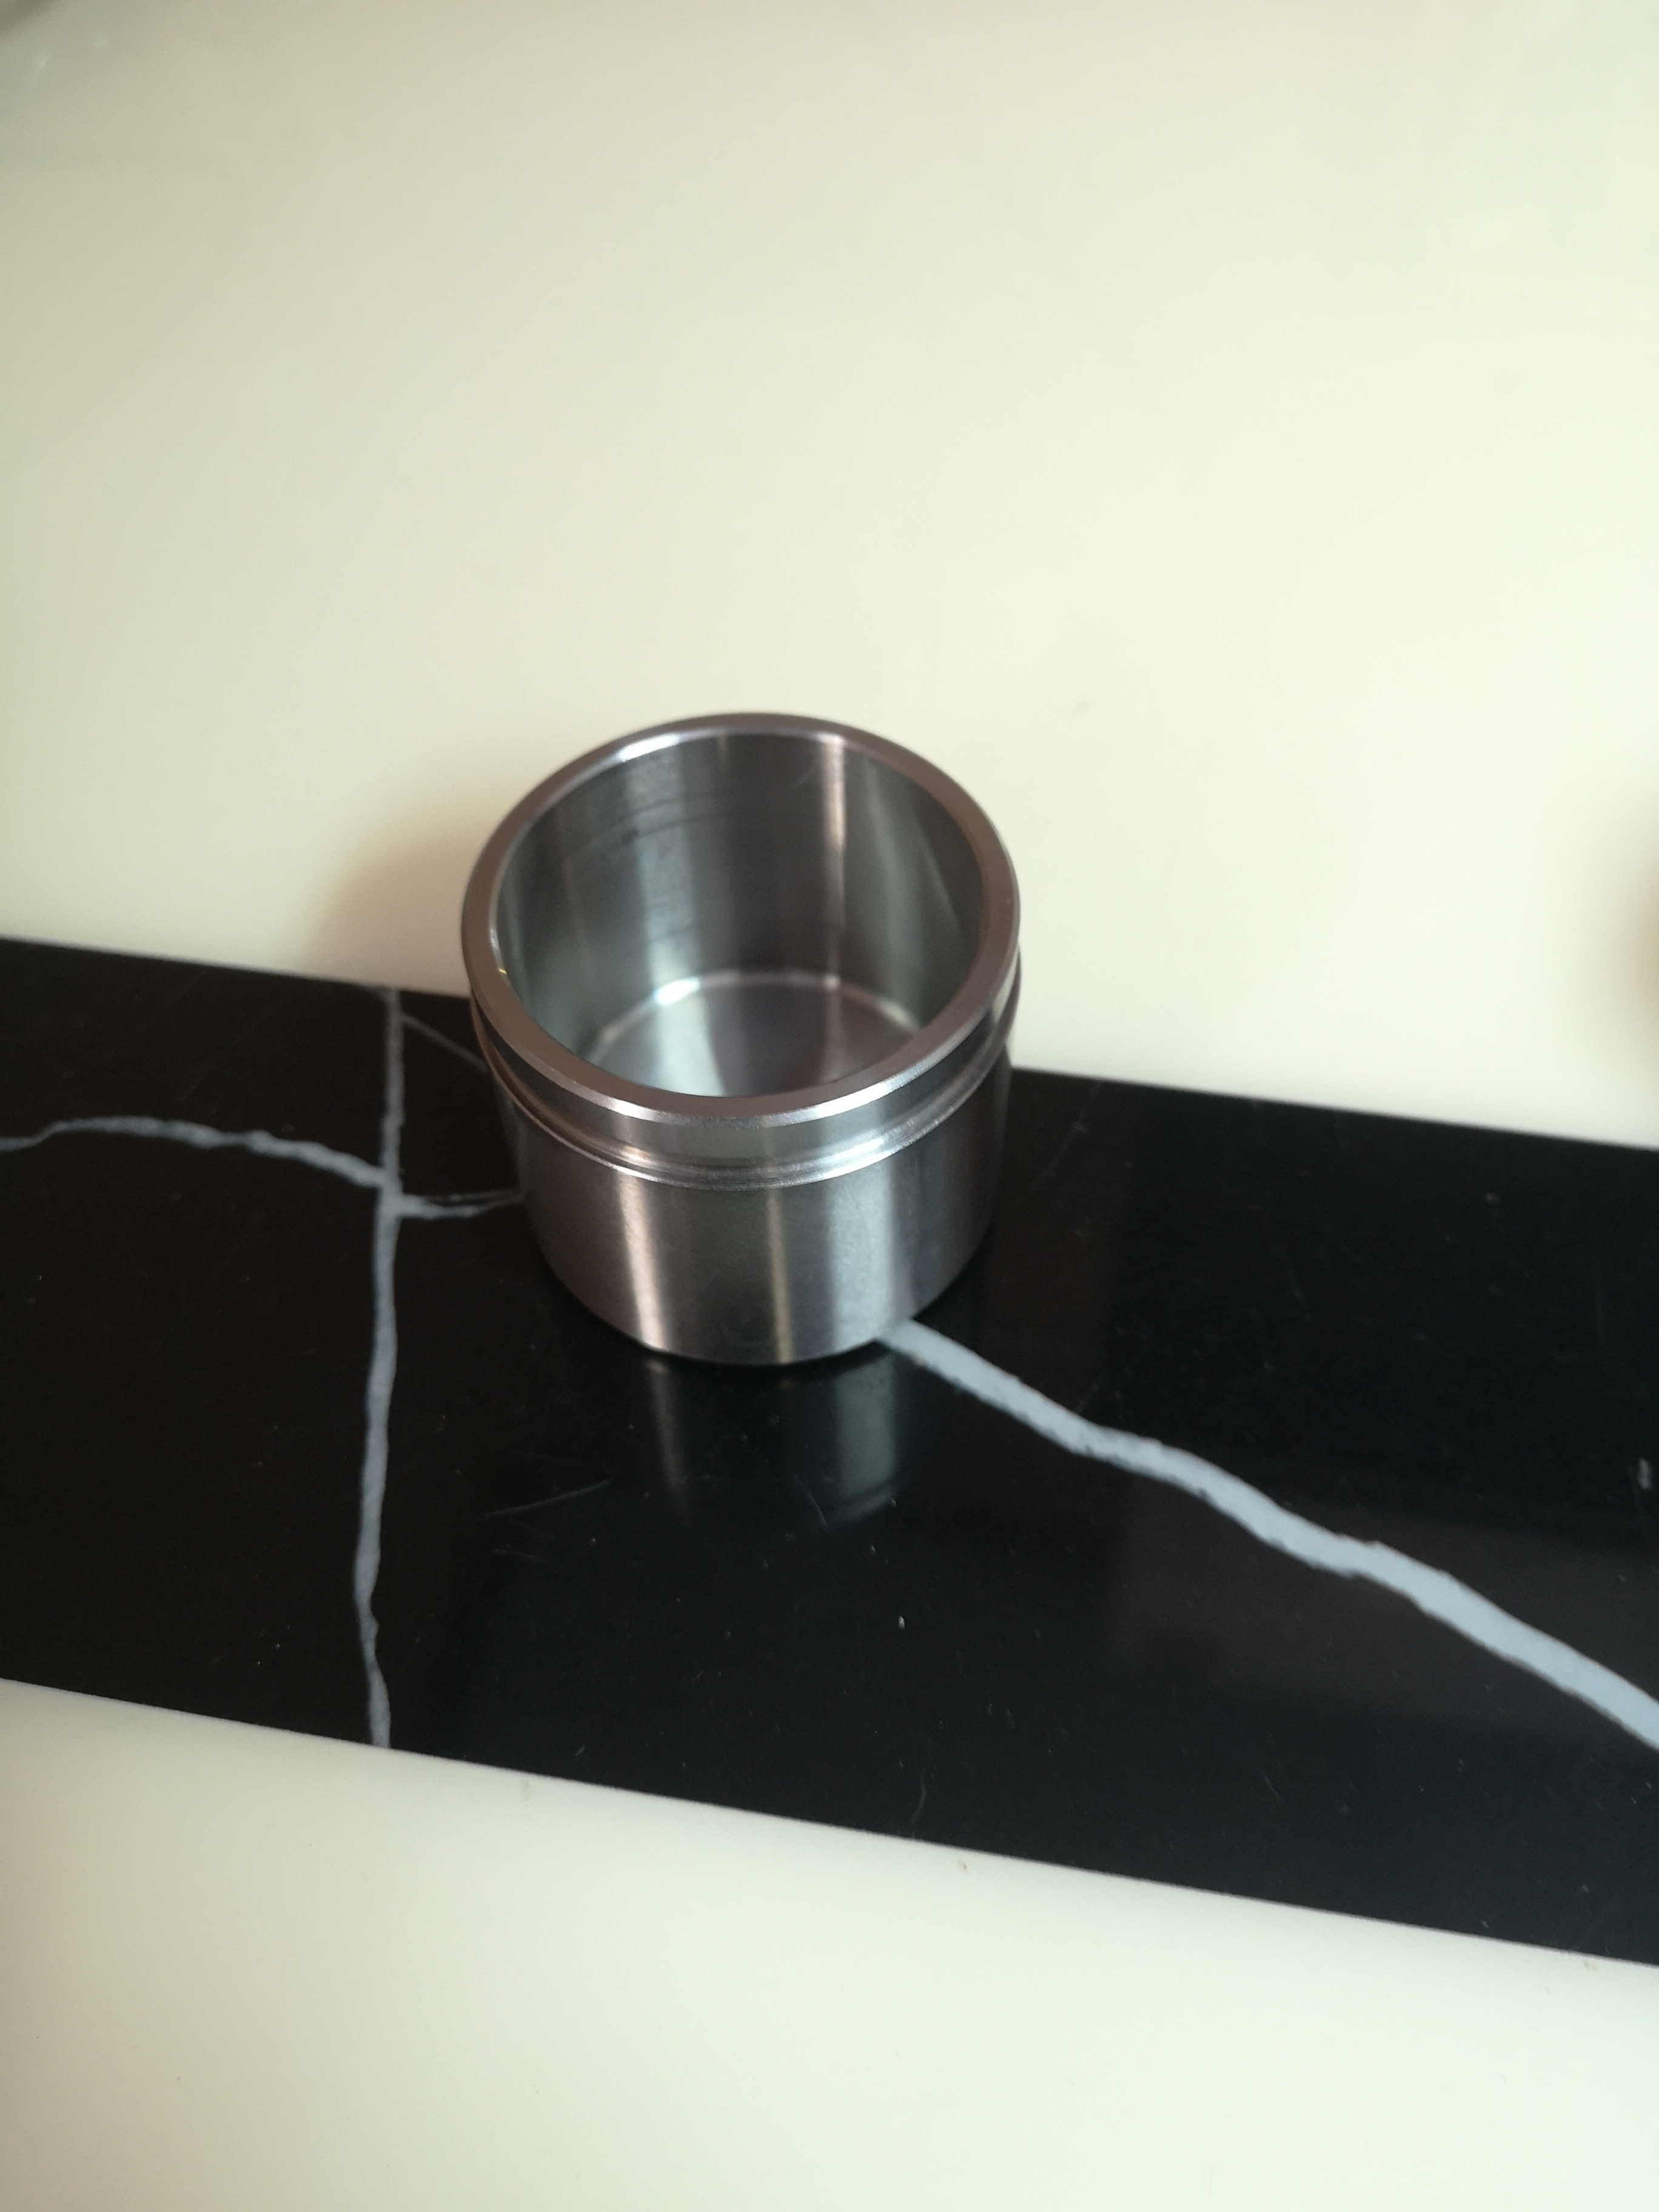ลูกสูบดิสเบรค: (444, 679, 1044, 1390)
